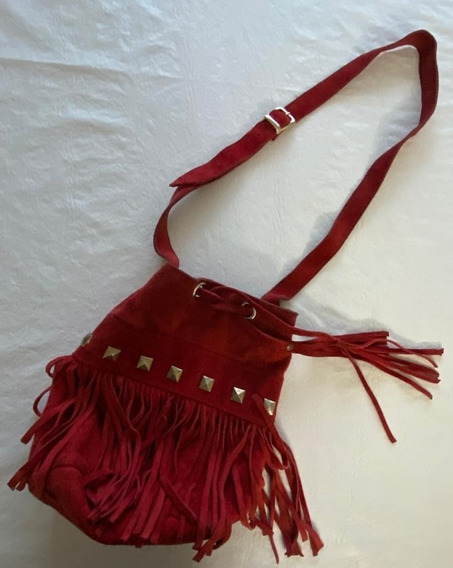cartera: (14, 265, 299, 553)
